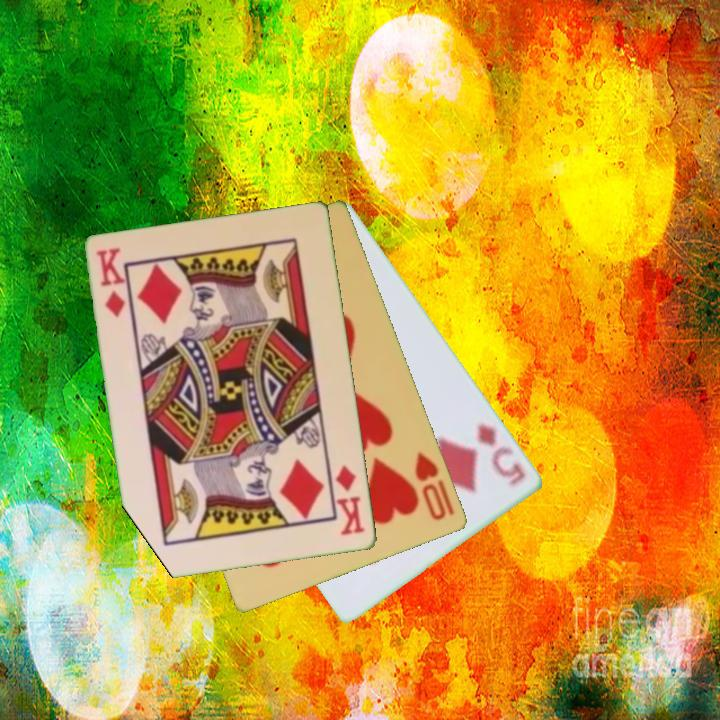10h: (412, 448, 458, 524)
5d: (474, 419, 529, 490)
Kd: (332, 462, 369, 539), (93, 244, 129, 321)
